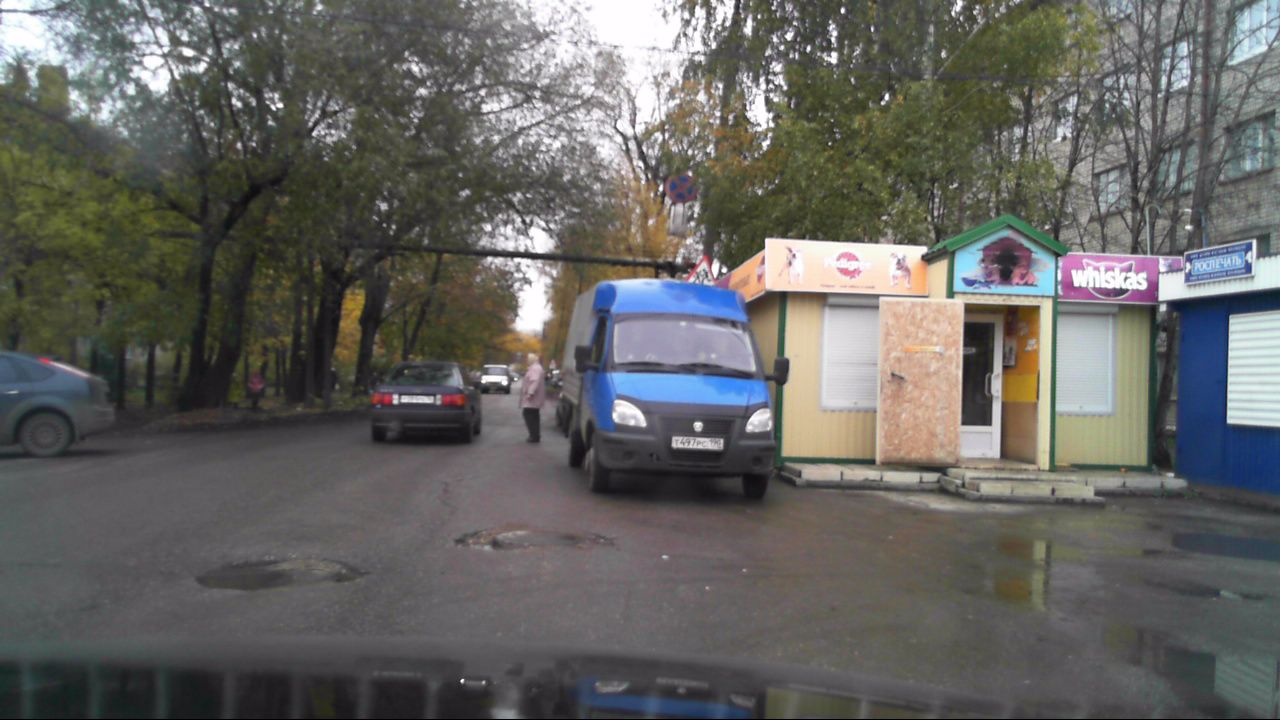No Parking: (665, 173, 698, 205)
